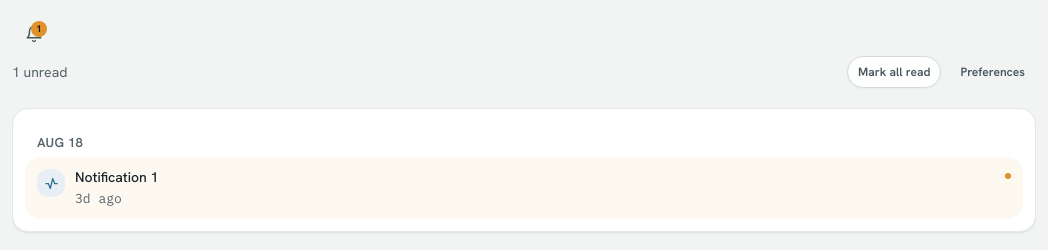
Test: Bell and page reconciliation (NTF-12) › NTF-12: marking a row read ON THE PAGE updates the BELL badge once the write settles
// The bell's dropdown is closed, so this row button is unambiguously the PAGE's.
Click the button "Notification 1 3d ago" at (98, 176), box [25, 157, 1023, 219]
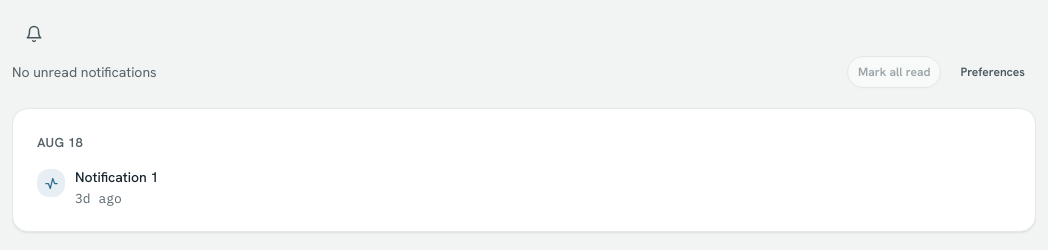
Now the text "No unread notifications" is shown, box [12, 62, 157, 82]
